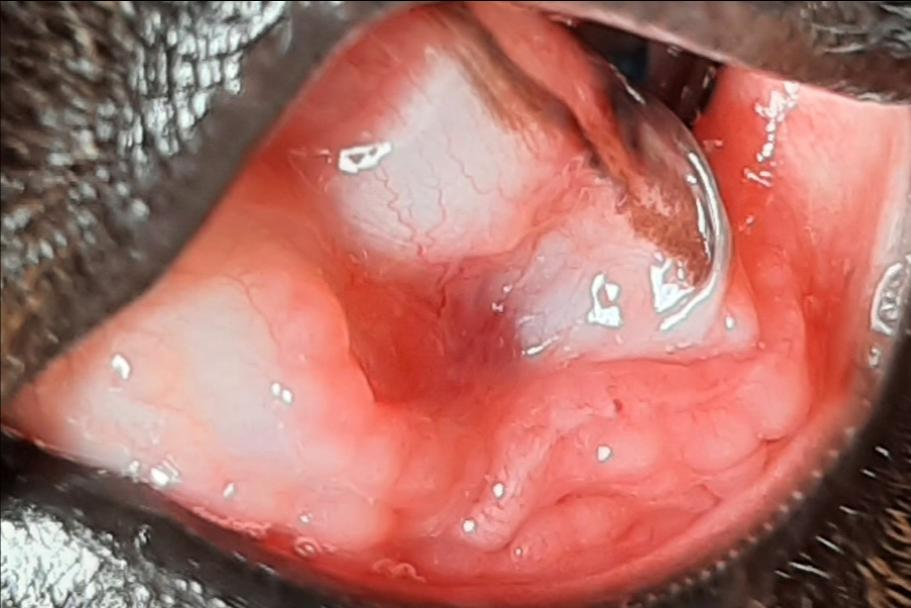eye_membrane: (0, 2, 911, 602)
